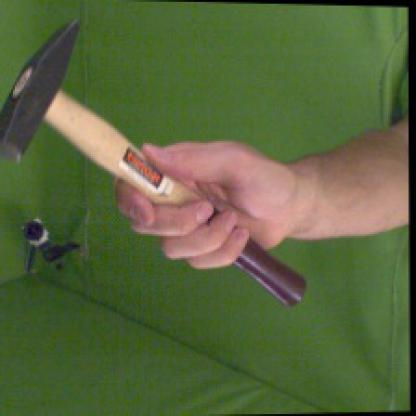Hand: (114, 139, 296, 271)
